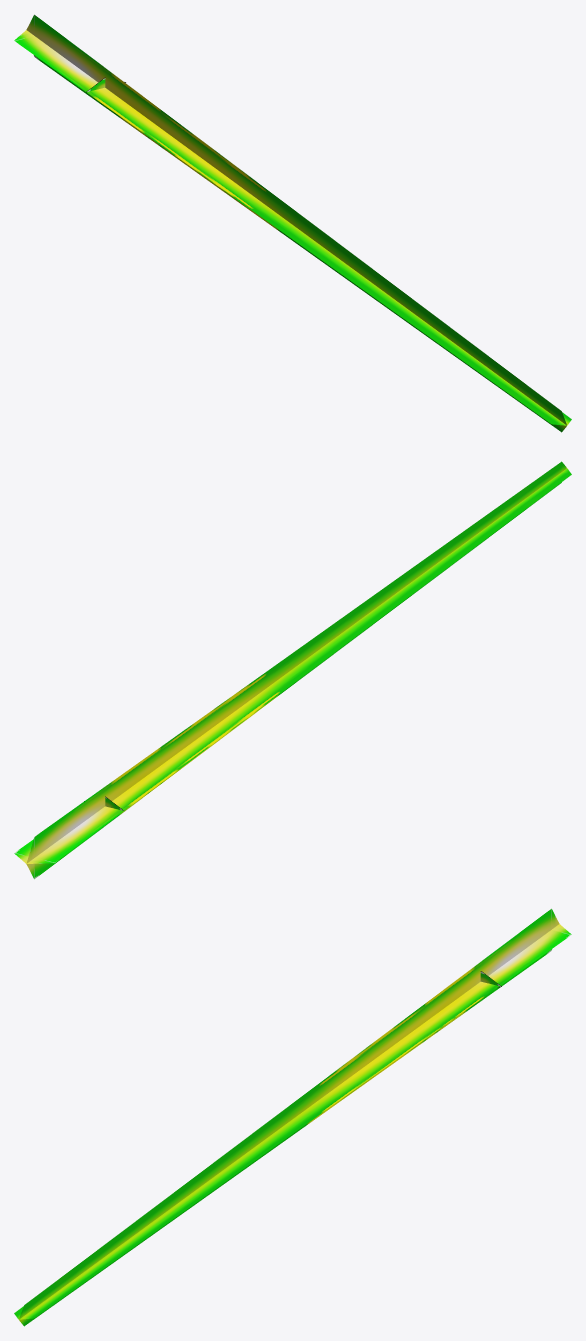
Rendered from LASER_IMPERIAL.glb.
3 views of the same model, one above another, from view 1: azimuth 30°, elevation 25°; view 2: azimuth 150°, elevation 25°; view 3: azimuth 330°, elevation 25° (orthographic).
Visible parts, largest first — view 1: .000.MainHull.001, .000.MainHull; view 2: .000.MainHull.001, .000.MainHull; view 3: .000.MainHull.001, .000.MainHull.
Part boxes in pixels (box(x1,y1,x2,y2)): .000.MainHull.001: box(26, 14, 566, 432); .000.MainHull: box(14, 30, 571, 425); .000.MainHull.001: box(26, 461, 566, 879); .000.MainHull: box(14, 468, 571, 863); .000.MainHull.001: box(19, 908, 559, 1326); .000.MainHull: box(14, 924, 571, 1319).
Size of the model in its own units: 0.9961 by 0.9736 by 22.42.
3 materials, 3 textured.
